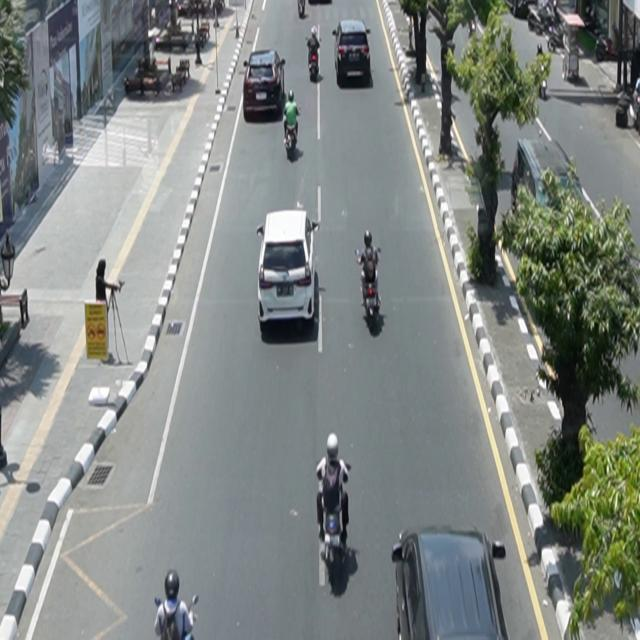car: (392, 525, 510, 640), (257, 208, 321, 329), (244, 49, 287, 122), (333, 20, 372, 85)
